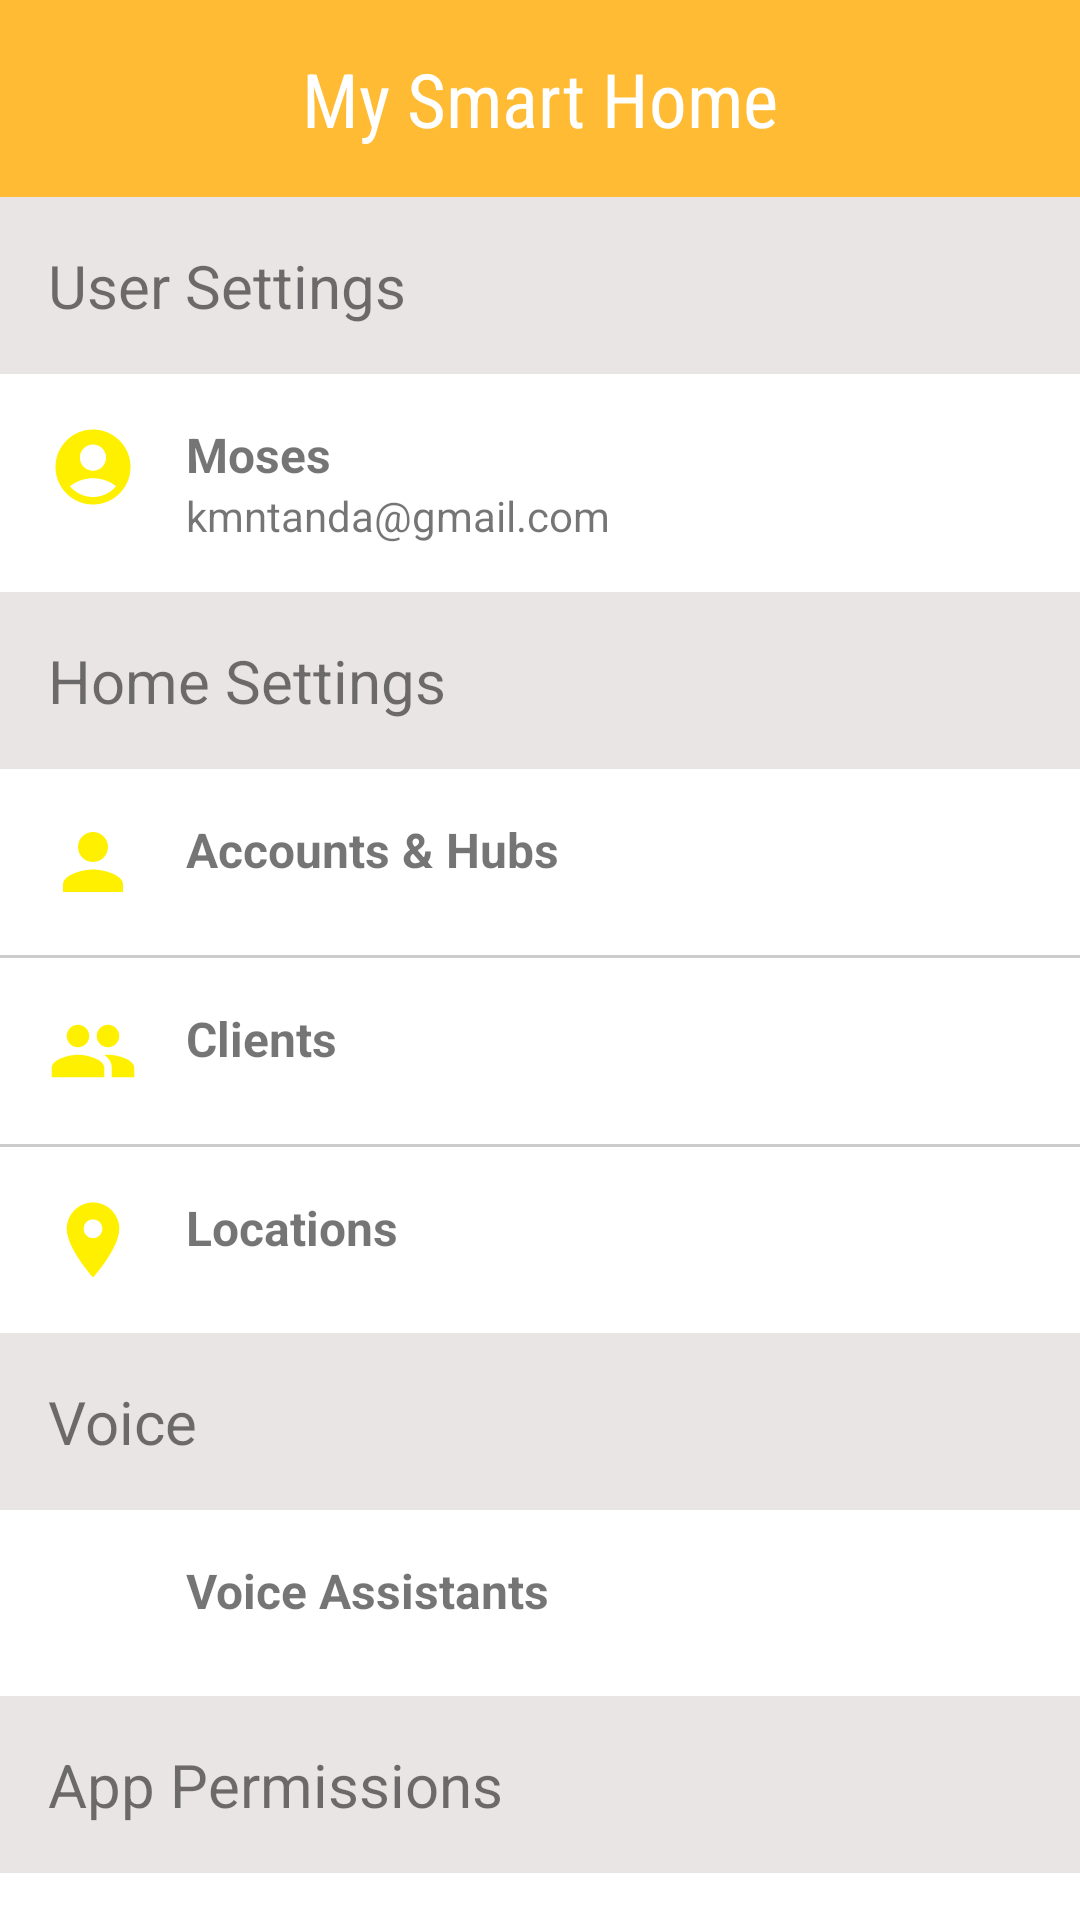

Screen size 1080px x 1920px. Icon name, then its center in pixels as (x=x, y=y):
account circle: (x=93, y=467)
location on: (x=93, y=1239)
people: (x=93, y=1051)
person: (x=93, y=862)
